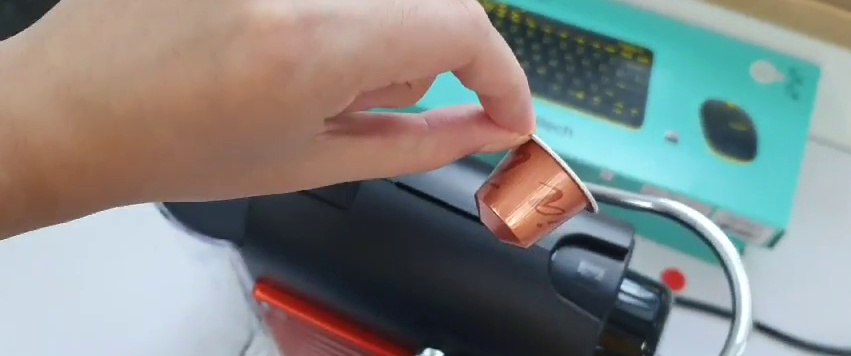capsule_6: (474, 128, 601, 247)
